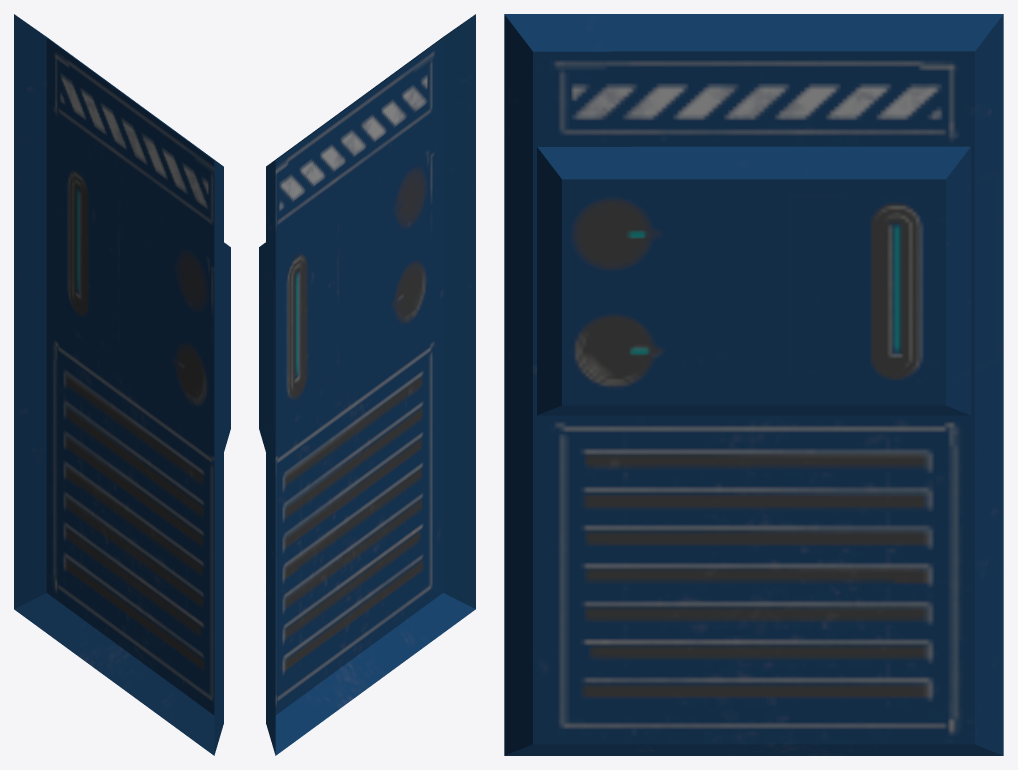
The model's file is Element_2_Sci_Fi.fbx.
3 views of the same model, side by side, from view 1: azimuth 30°, elevation 25°; view 2: azimuth 150°, elevation 25°; view 3: azimuth 270°, elevation 25° (orthographic). The views are drawn at different scales.
Visible parts, largest first — view 1: Sci_Fi_element_2; view 2: Sci_Fi_element_2; view 3: Sci_Fi_element_2.
Boxes of the visible parts, x1,y1,x2,y2 form: Sci_Fi_element_2: [14, 14, 230, 755]; Sci_Fi_element_2: [259, 14, 475, 755]; Sci_Fi_element_2: [504, 14, 1003, 755].
Bounding box in the file's own units: 16.33 × 234 × 143.
